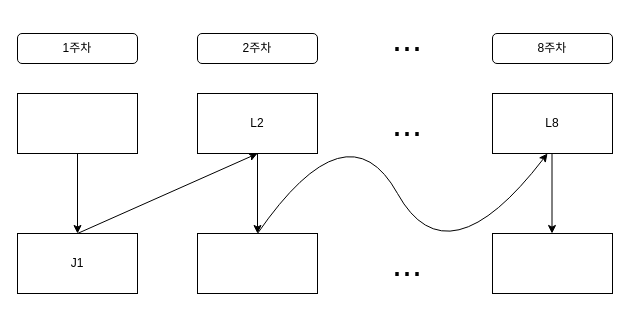
The diagram is 630 pixels wide and 311 high, and some of its shapes have lost their labels. Each missing label, with the box of its shape:
J2: (196, 232, 318, 294)
J8: (492, 232, 612, 294)
L1: (16, 92, 138, 154)
